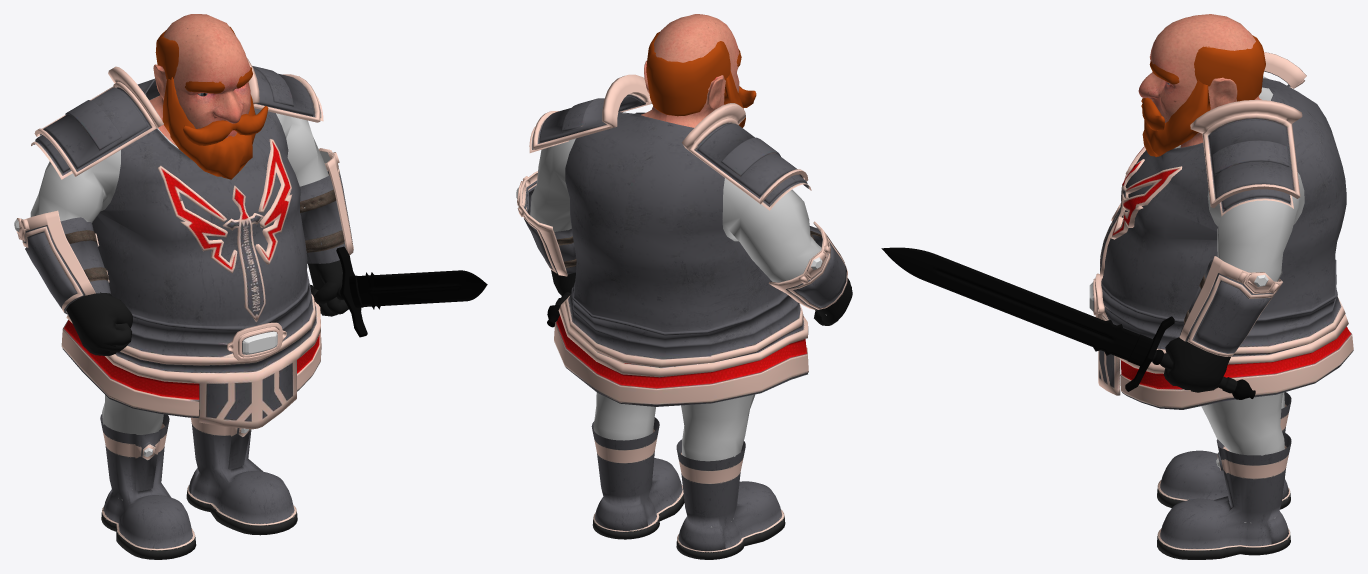
The model's file is chart.fbx.
3 renders of one model, left to right at view 1: azimuth 30°, elevation 25°; view 2: azimuth 150°, elevation 25°; view 3: azimuth 270°, elevation 25°, orthographic.
Visible parts, largest first — view 1: 1_Kurtka5, 5_sapogi5, 4_Perchatki5, telo, 2_hair5, 13; view 2: 1_Kurtka5, 5_sapogi5, 4_Perchatki5, 2_hair5, telo; view 3: 1_Kurtka5, 5_sapogi5, 13, 4_Perchatki5, telo, 2_hair5.
Boxes of the visible parts, x1=… form: 1_Kurtka5: x1=30, y1=58, x2=328, y2=434; 5_sapogi5: x1=100, y1=410, x2=297, y2=559; 4_Perchatki5: x1=14, y1=148, x2=353, y2=355; telo: x1=118, y1=14, x2=250, y2=500; 2_hair5: x1=155, y1=26, x2=268, y2=179; 13: x1=310, y1=246, x2=487, y2=337; 1_Kurtka5: x1=529, y1=74, x2=821, y2=461; 5_sapogi5: x1=591, y1=417, x2=785, y2=559; 4_Perchatki5: x1=516, y1=171, x2=852, y2=325; 2_hair5: x1=646, y1=32, x2=756, y2=127; telo: x1=605, y1=14, x2=826, y2=527; 1_Kurtka5: x1=1089, y1=52, x2=1353, y2=455; 5_sapogi5: x1=1157, y1=392, x2=1291, y2=559; 13: x1=881, y1=247, x2=1255, y2=399; 4_Perchatki5: x1=1163, y1=256, x2=1282, y2=392; telo: x1=1138, y1=14, x2=1275, y2=522; 2_hair5: x1=1141, y1=35, x2=1265, y2=156.
Bounding box in the file's own units: 85.08 × 132 × 112.
